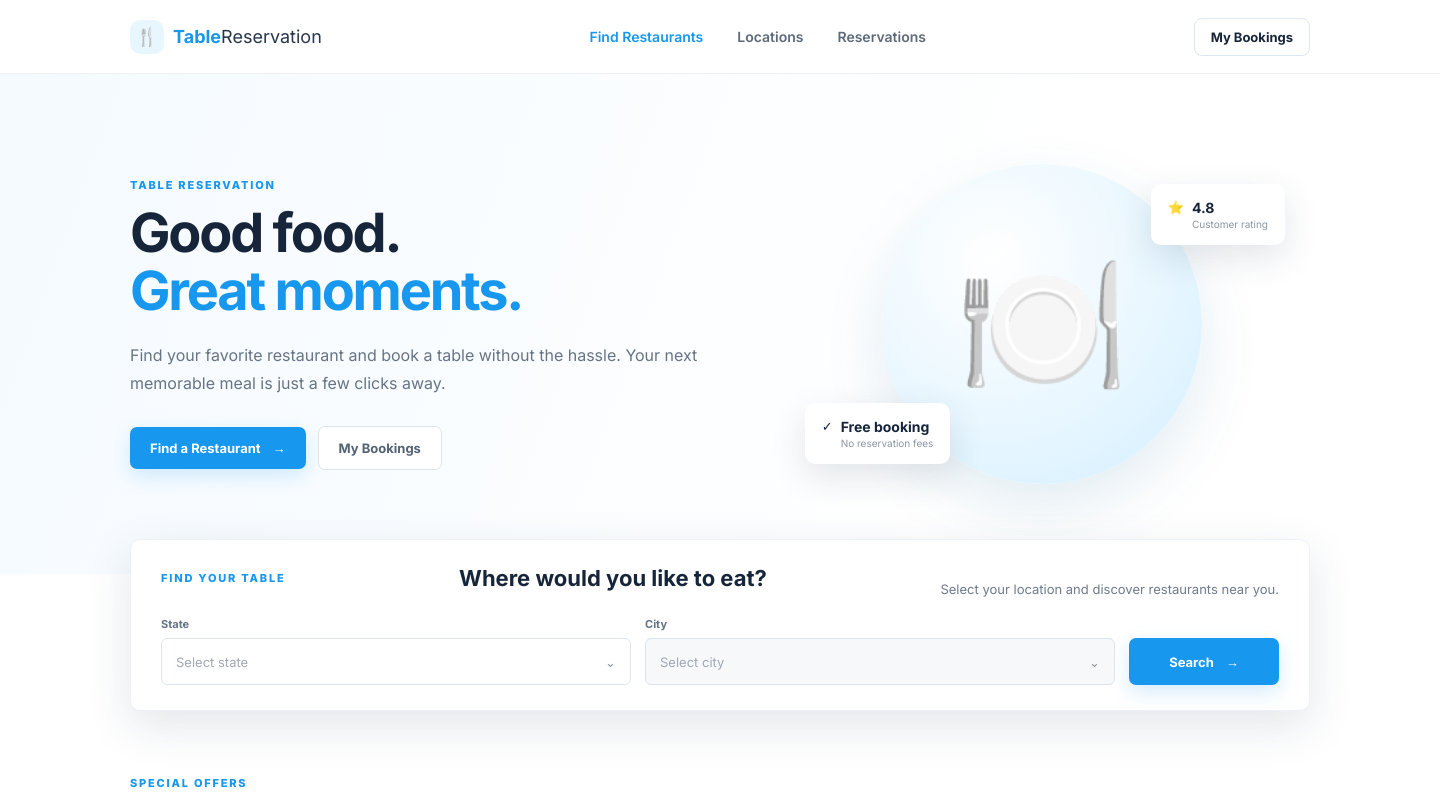
Test case: Restaurant Reservation › shows reservation button on restaurant cards
Click the dropdown with id "state". click: (396, 662)
box: top-left (161, 638), bottom-right (631, 685)
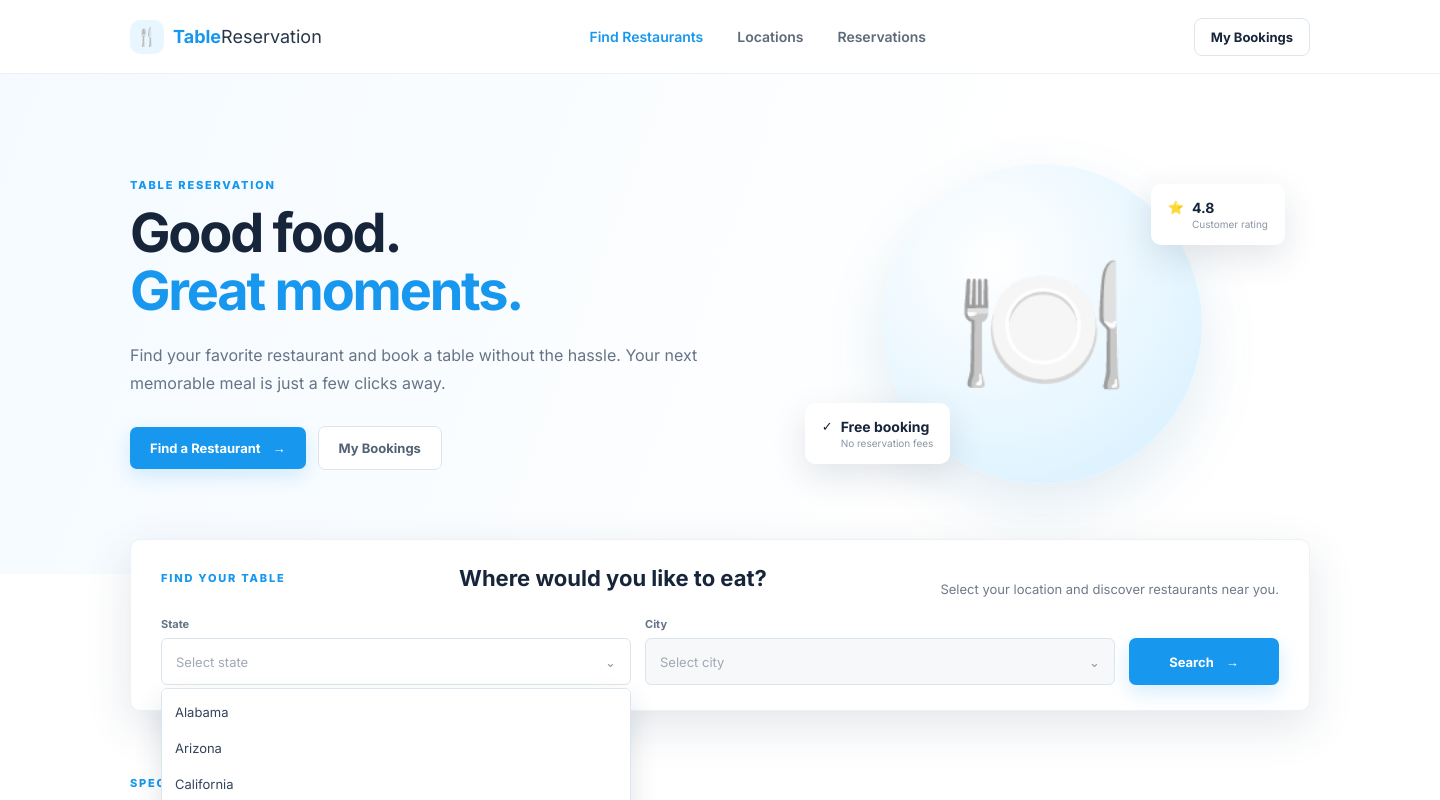
Scroll
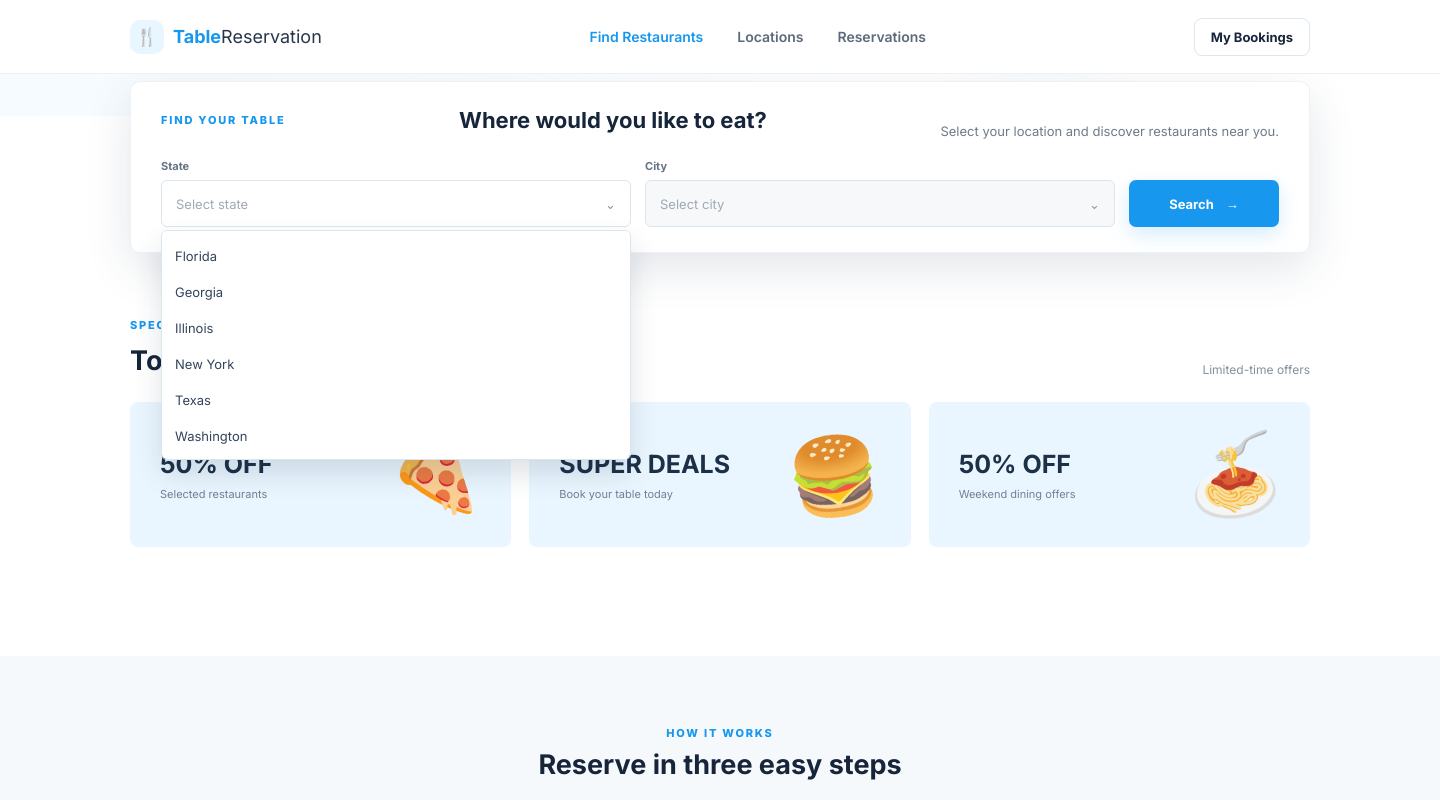
Click the list item "Texas". click: (193, 400)
box: top-left (175, 392), bottom-right (211, 408)
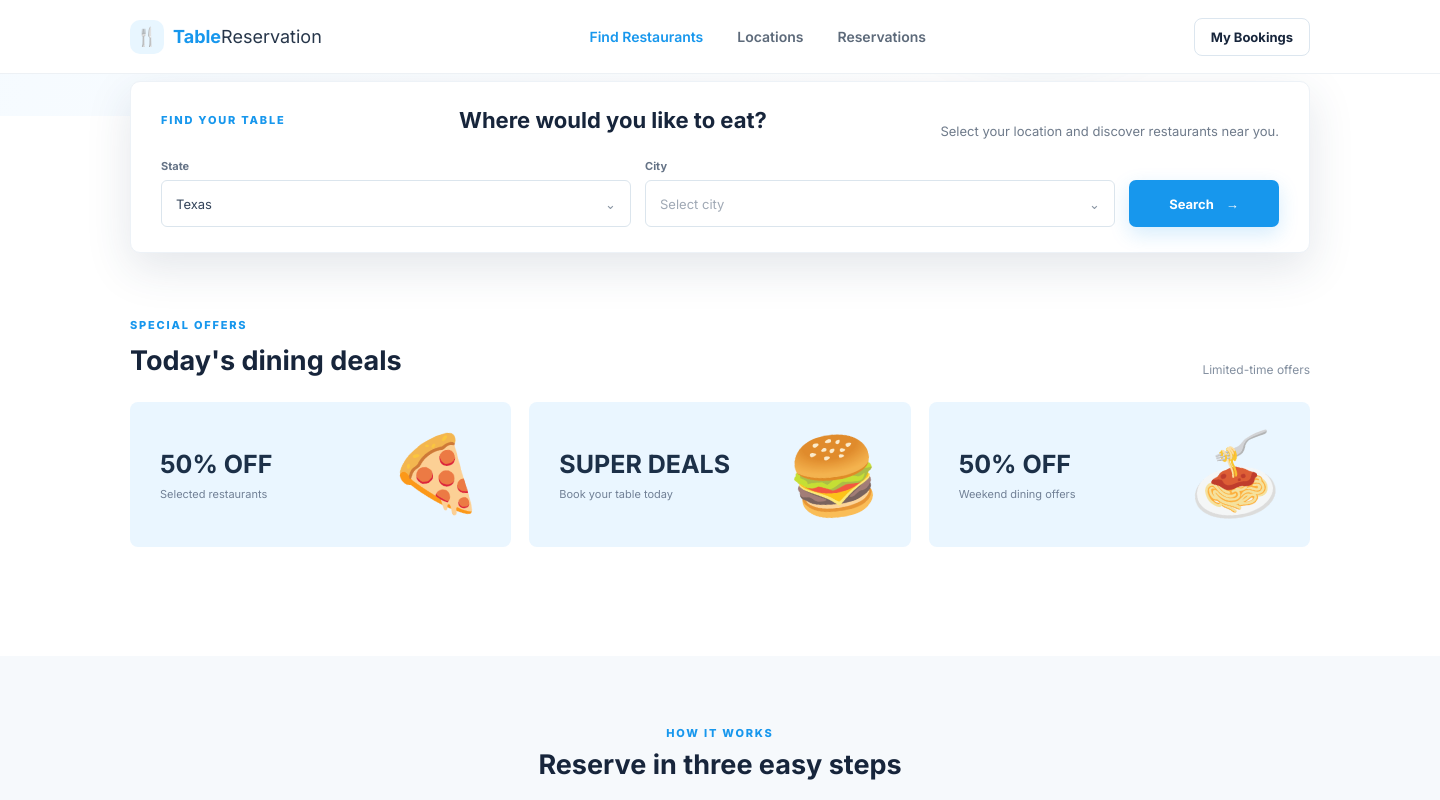
Click the dropdown with id "city". click: (880, 204)
box: top-left (645, 180), bottom-right (1115, 227)
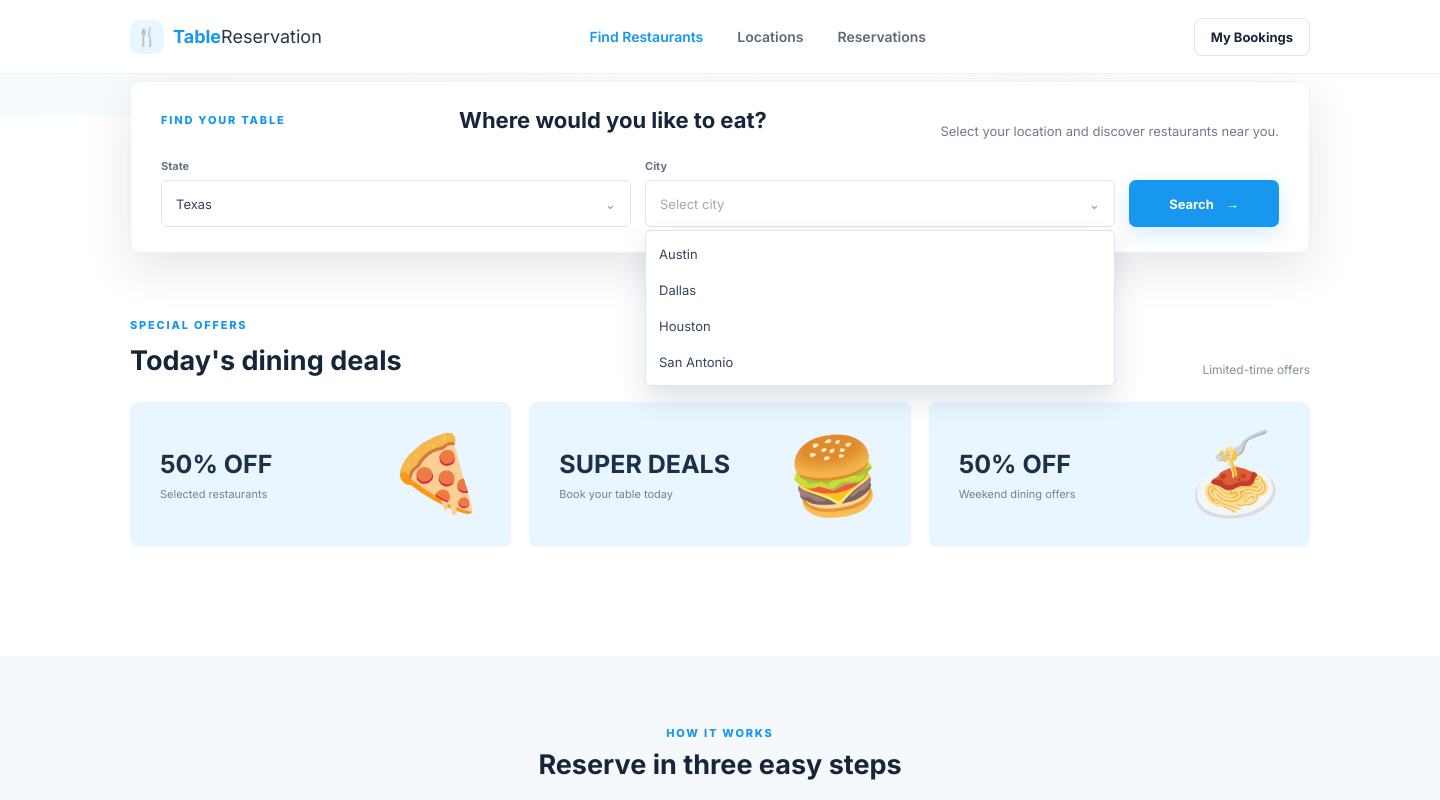
Click the list item "Austin". click: (679, 254)
box: top-left (659, 246), bottom-right (698, 262)
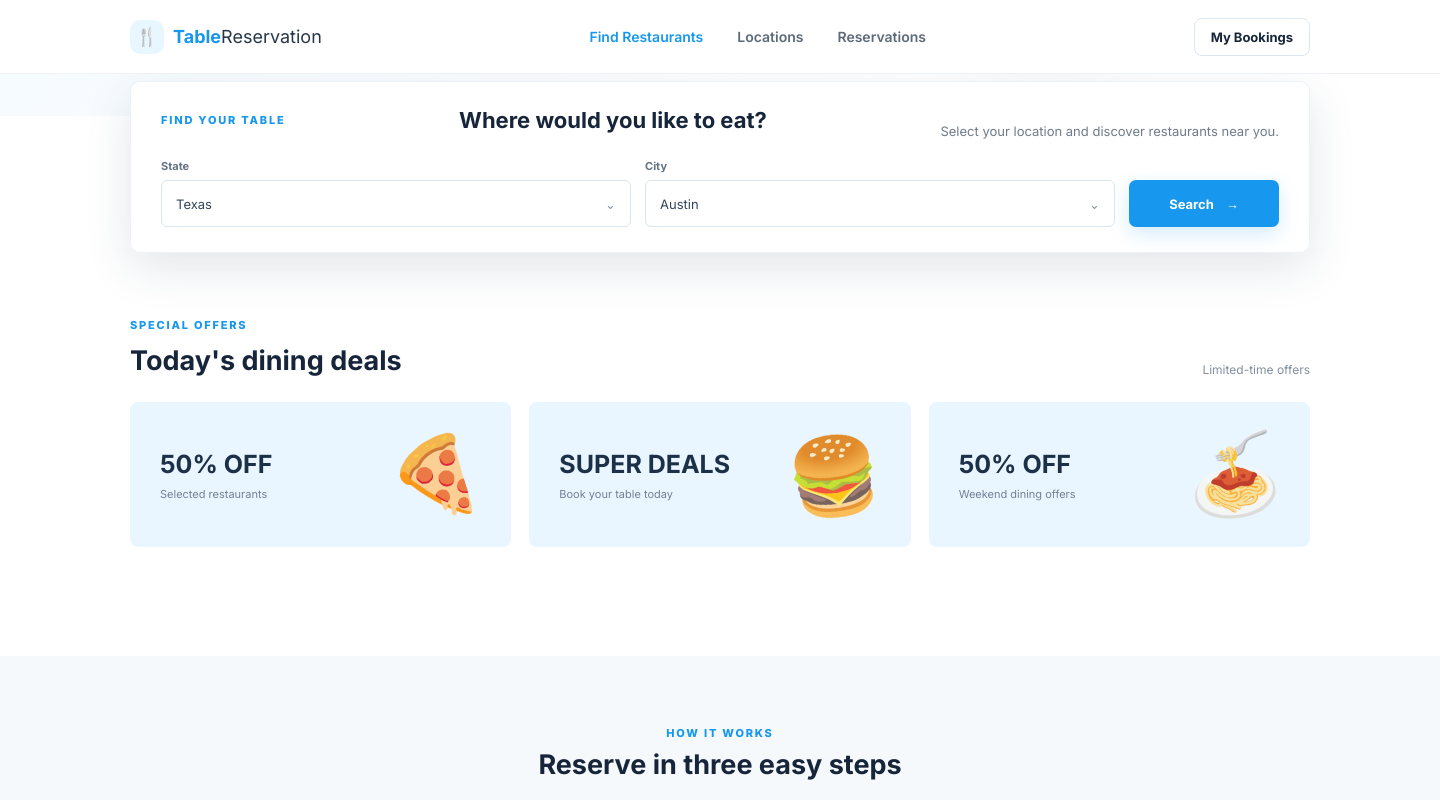
Click the button with id "searchBtn". click: (1204, 204)
box: top-left (1129, 180), bottom-right (1279, 227)
(page scrolled)
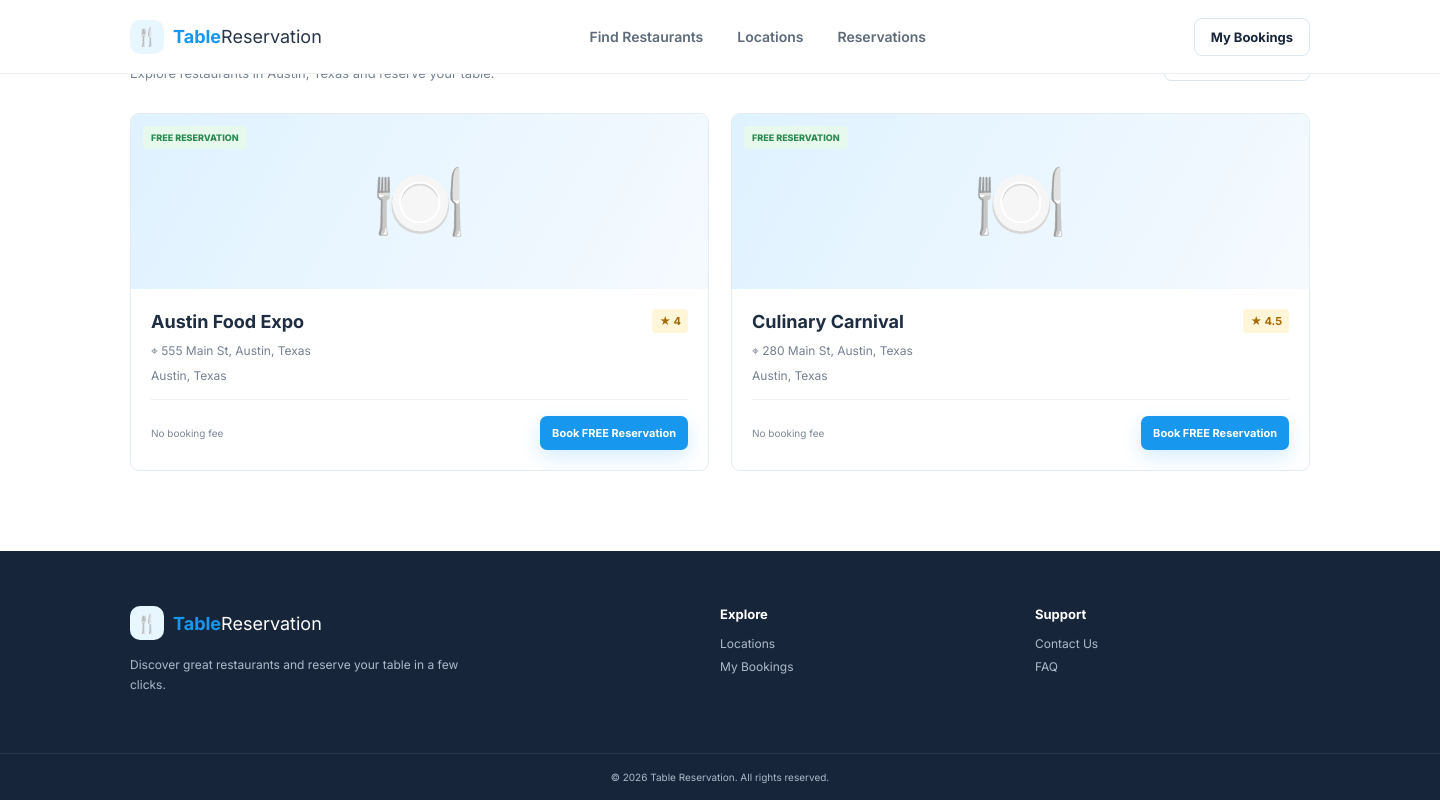
Check: the button "Book FREE Reservation" below "555 Main St, Austin, Texas" is shown, box top-left (540, 416), bottom-right (688, 450)
